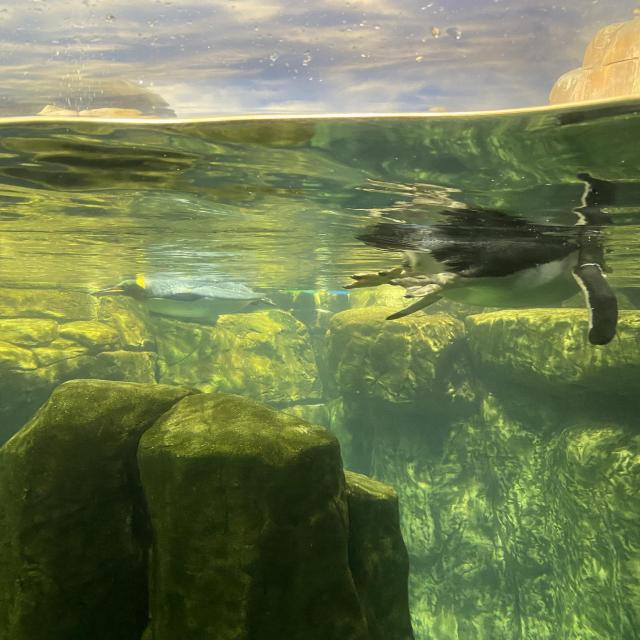penguin: (343, 209, 618, 344), (91, 276, 276, 324)
